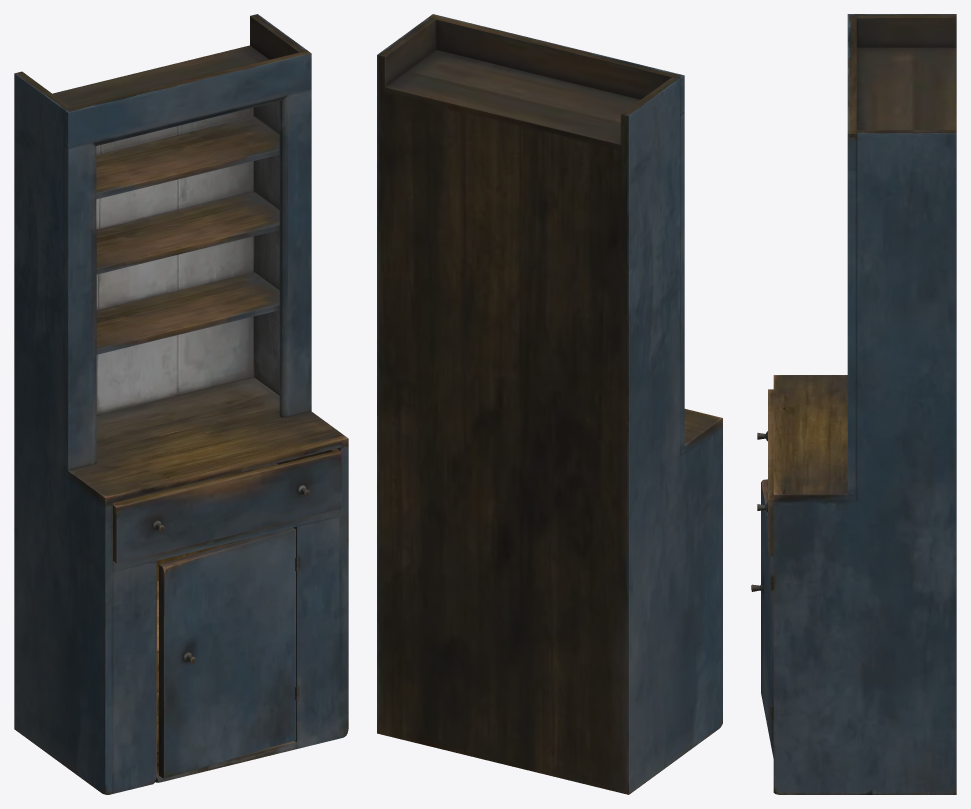
File: painted_wooden_cabinet_02.glb
3 renders of one model, left to right at view 1: azimuth 30°, elevation 25°; view 2: azimuth 150°, elevation 25°; view 3: azimuth 270°, elevation 25°, orthographic. The views are drawn at different scales.
Parts seen in each view (by area): view 1: painted_wooden_cabinet_02; view 2: painted_wooden_cabinet_02; view 3: painted_wooden_cabinet_02.
Boxes of the visible parts, x1,y1,x2,y2 form: painted_wooden_cabinet_02: (14,14,348,794); painted_wooden_cabinet_02: (377,14,722,794); painted_wooden_cabinet_02: (751,14,956,794).
Bounding box in the file's own units: 0.9969 × 2.57 × 0.7225.
Materials: 1 (1 with a texture image).
